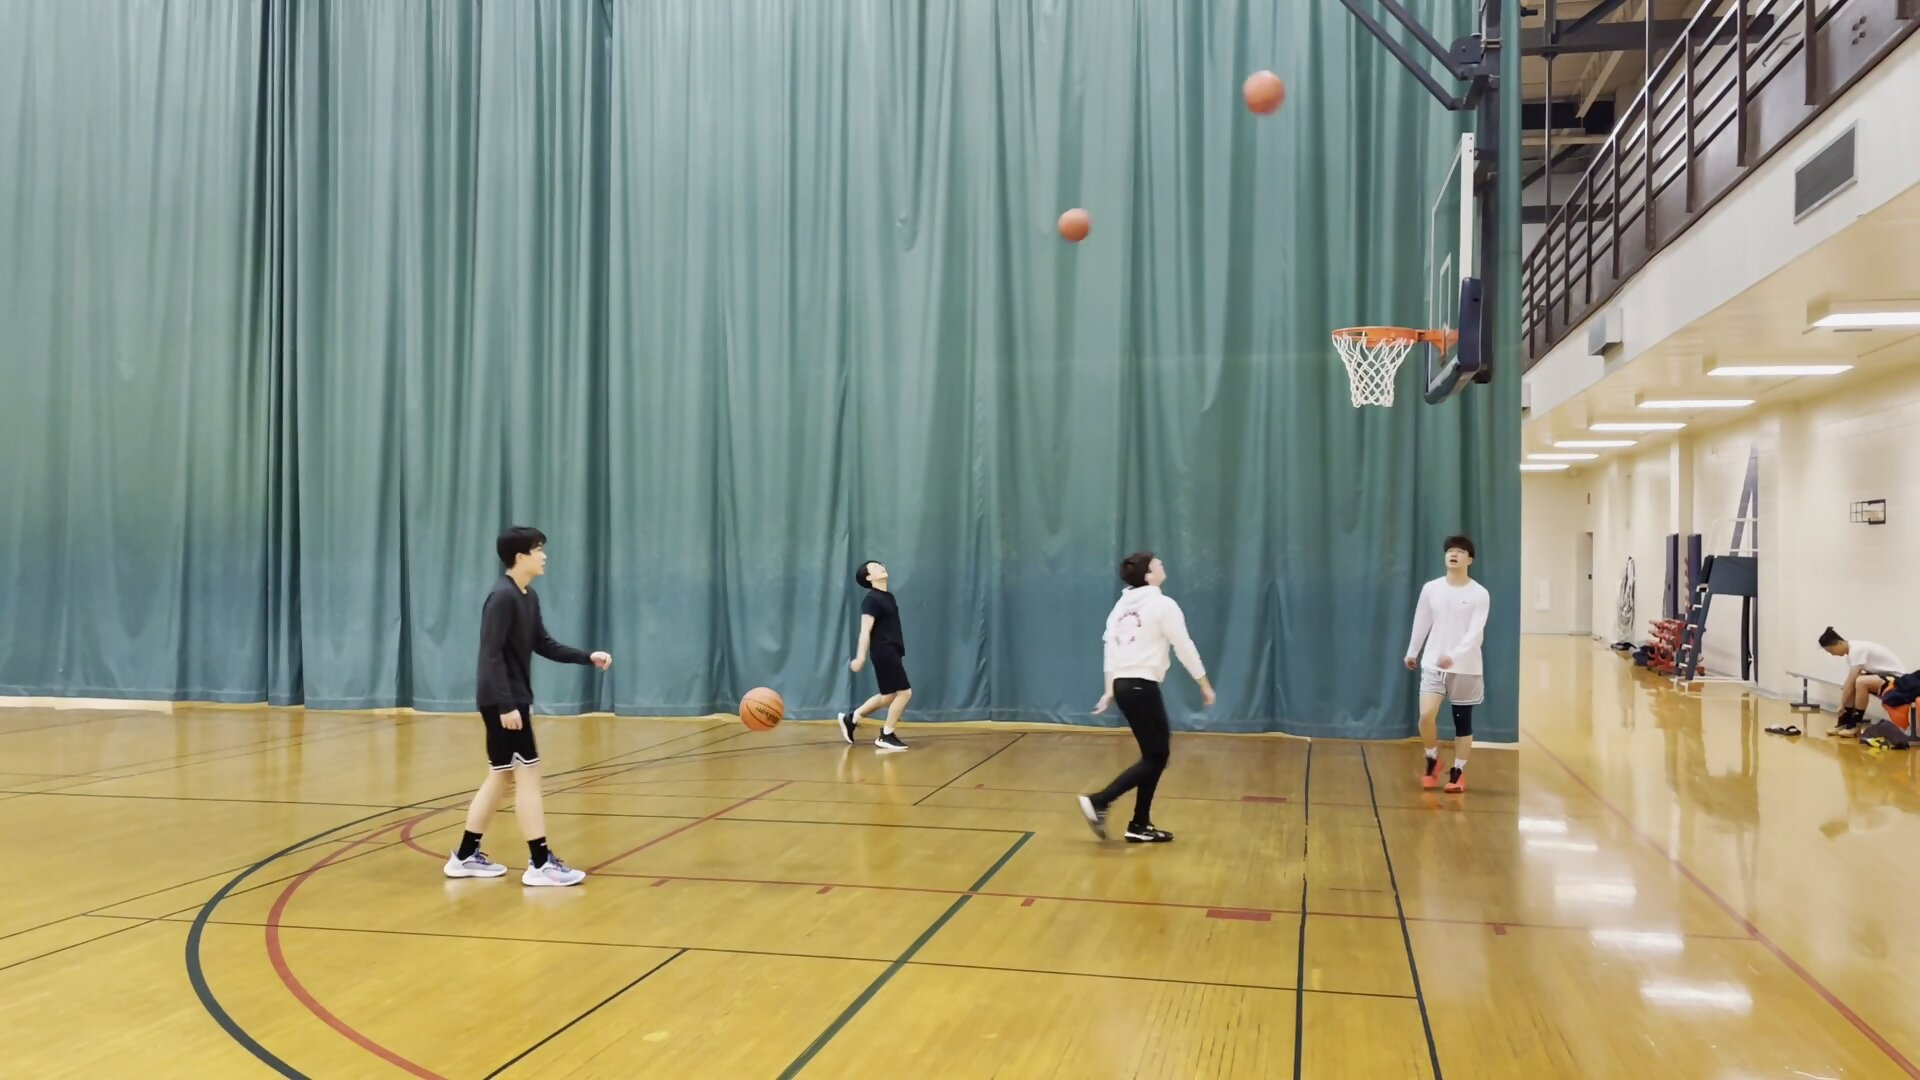ball: (739, 684, 784, 736), (1239, 69, 1286, 115), (1054, 206, 1096, 244)
net: (1340, 378, 1405, 412)
player: (449, 526, 593, 884), (1072, 551, 1214, 859), (1397, 538, 1493, 795), (840, 557, 915, 754), (1819, 624, 1903, 743)
rim: (1325, 321, 1425, 350)
